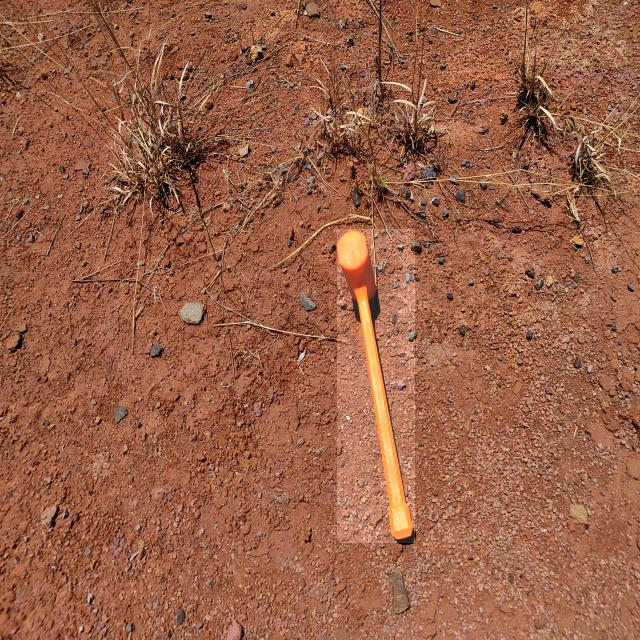Orange_hammer: (338, 229, 416, 543)
